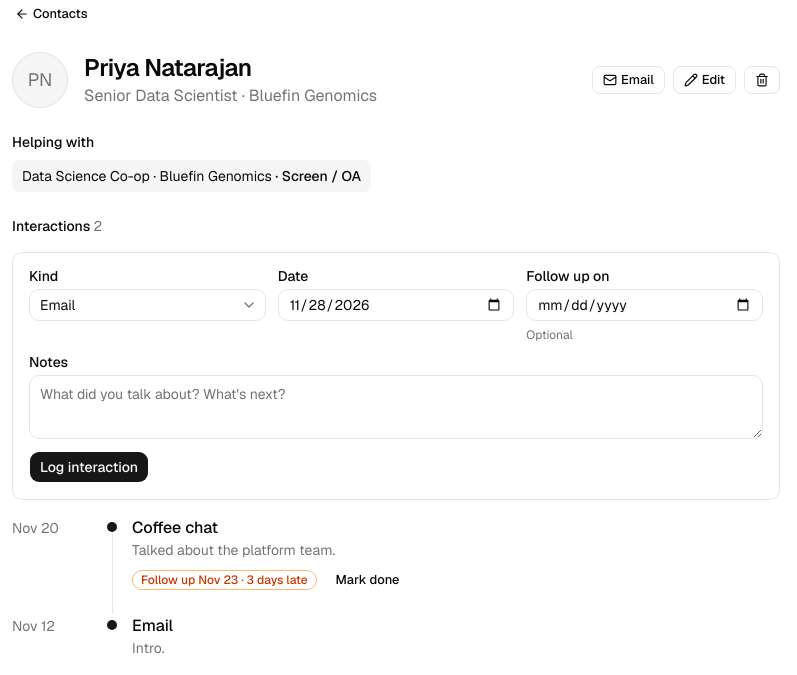
ContactDetailPage › shows the server's message next to the field it belongs to
Click the button "Log interaction".
click(89, 467)  # box [29,451,149,483]
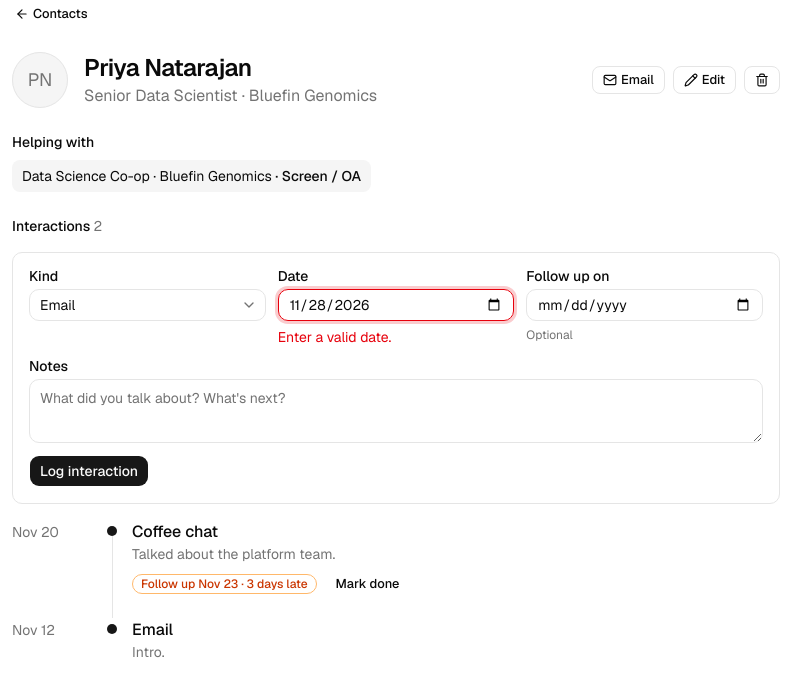
Check: the text "Enter a valid date." is shown, box [278,328,391,346]
